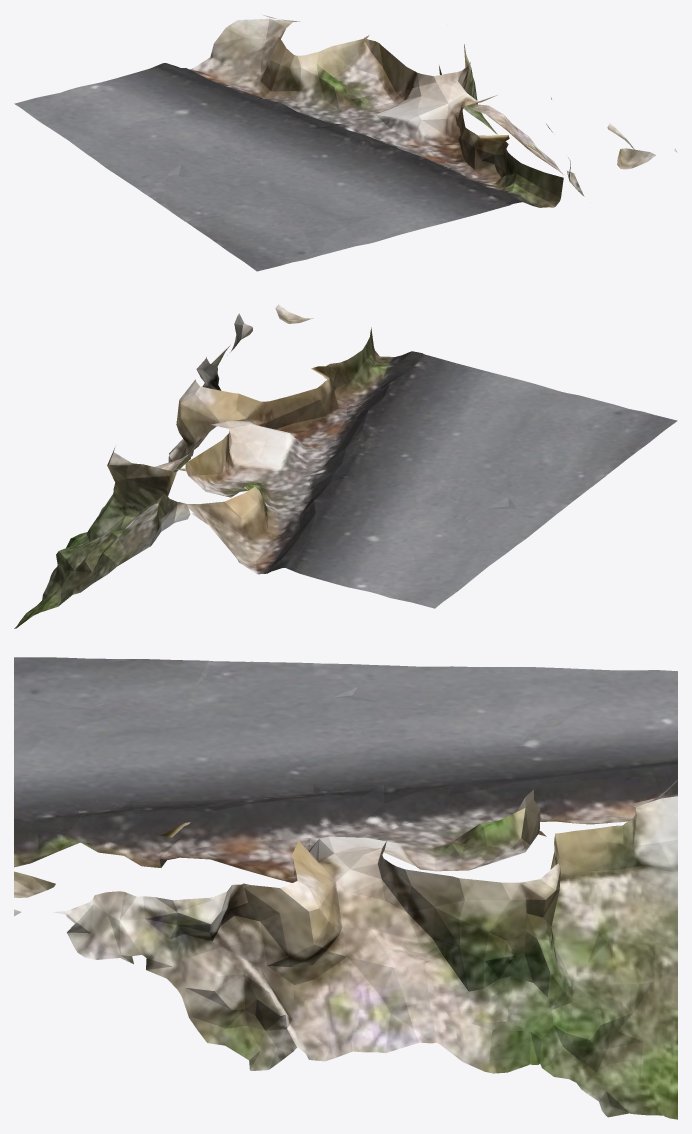
The picture shows the model from 3 angles, top to bottom: view 1: azimuth 30°, elevation 25°; view 2: azimuth 150°, elevation 25°; view 3: azimuth 270°, elevation 25°; orthographic projection. The views are drawn at different scales.
Bounding box in the file's own units: 2.95 × 1.02 × 2.95.
Materials: 3 (3 with a texture image).
